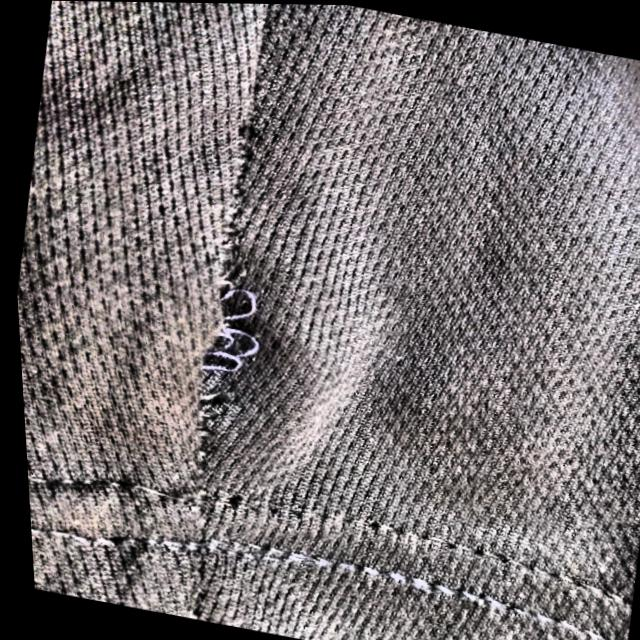Stitch: (156, 250, 283, 434)
